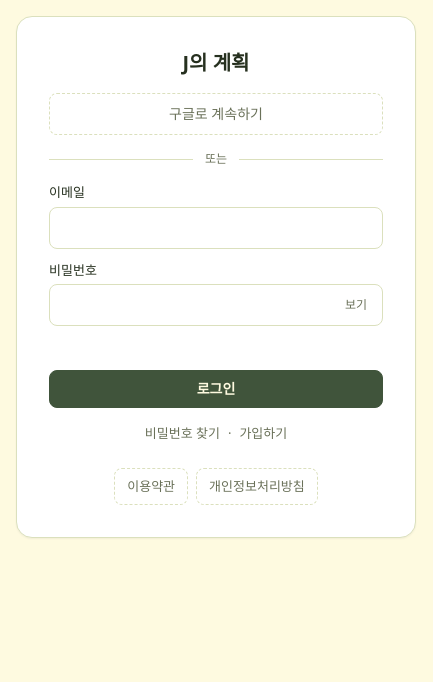
Test: 로그인 화면 /login (US-34, D-072) › 점선 자리 "이용약관"는 눌러도 오류 없이 "준비 중이에요" (D-008 방식)
Click the button "이용약관" at (151, 486), box [114,468,188,505]
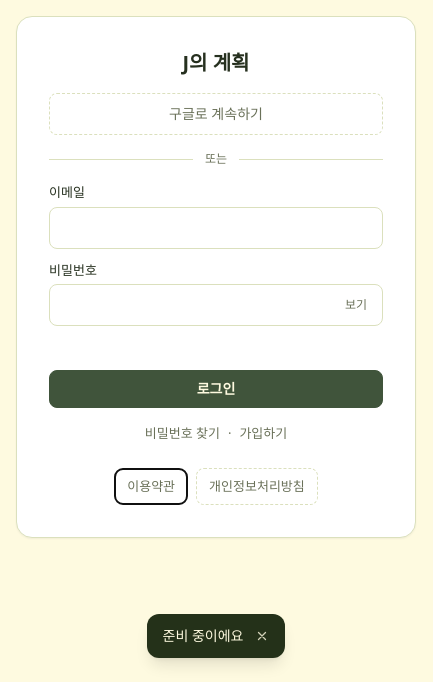
Now the message reads "준비 중이에요", box [162,626,243,645]
